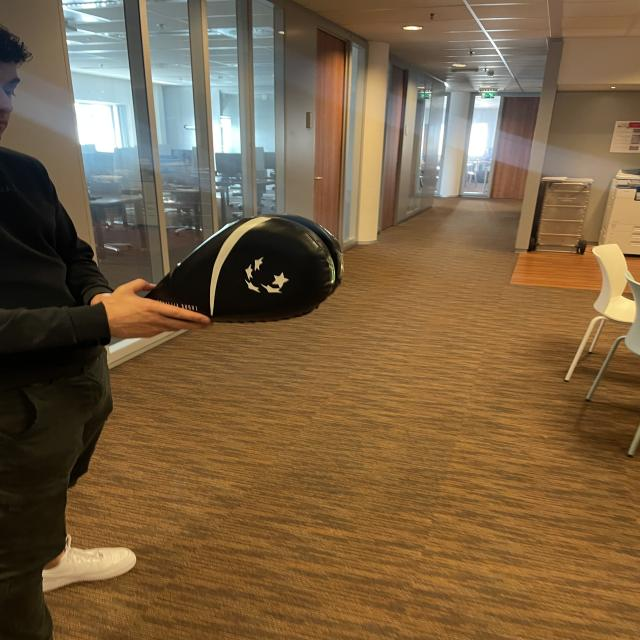paddle: (153, 214, 341, 320)
